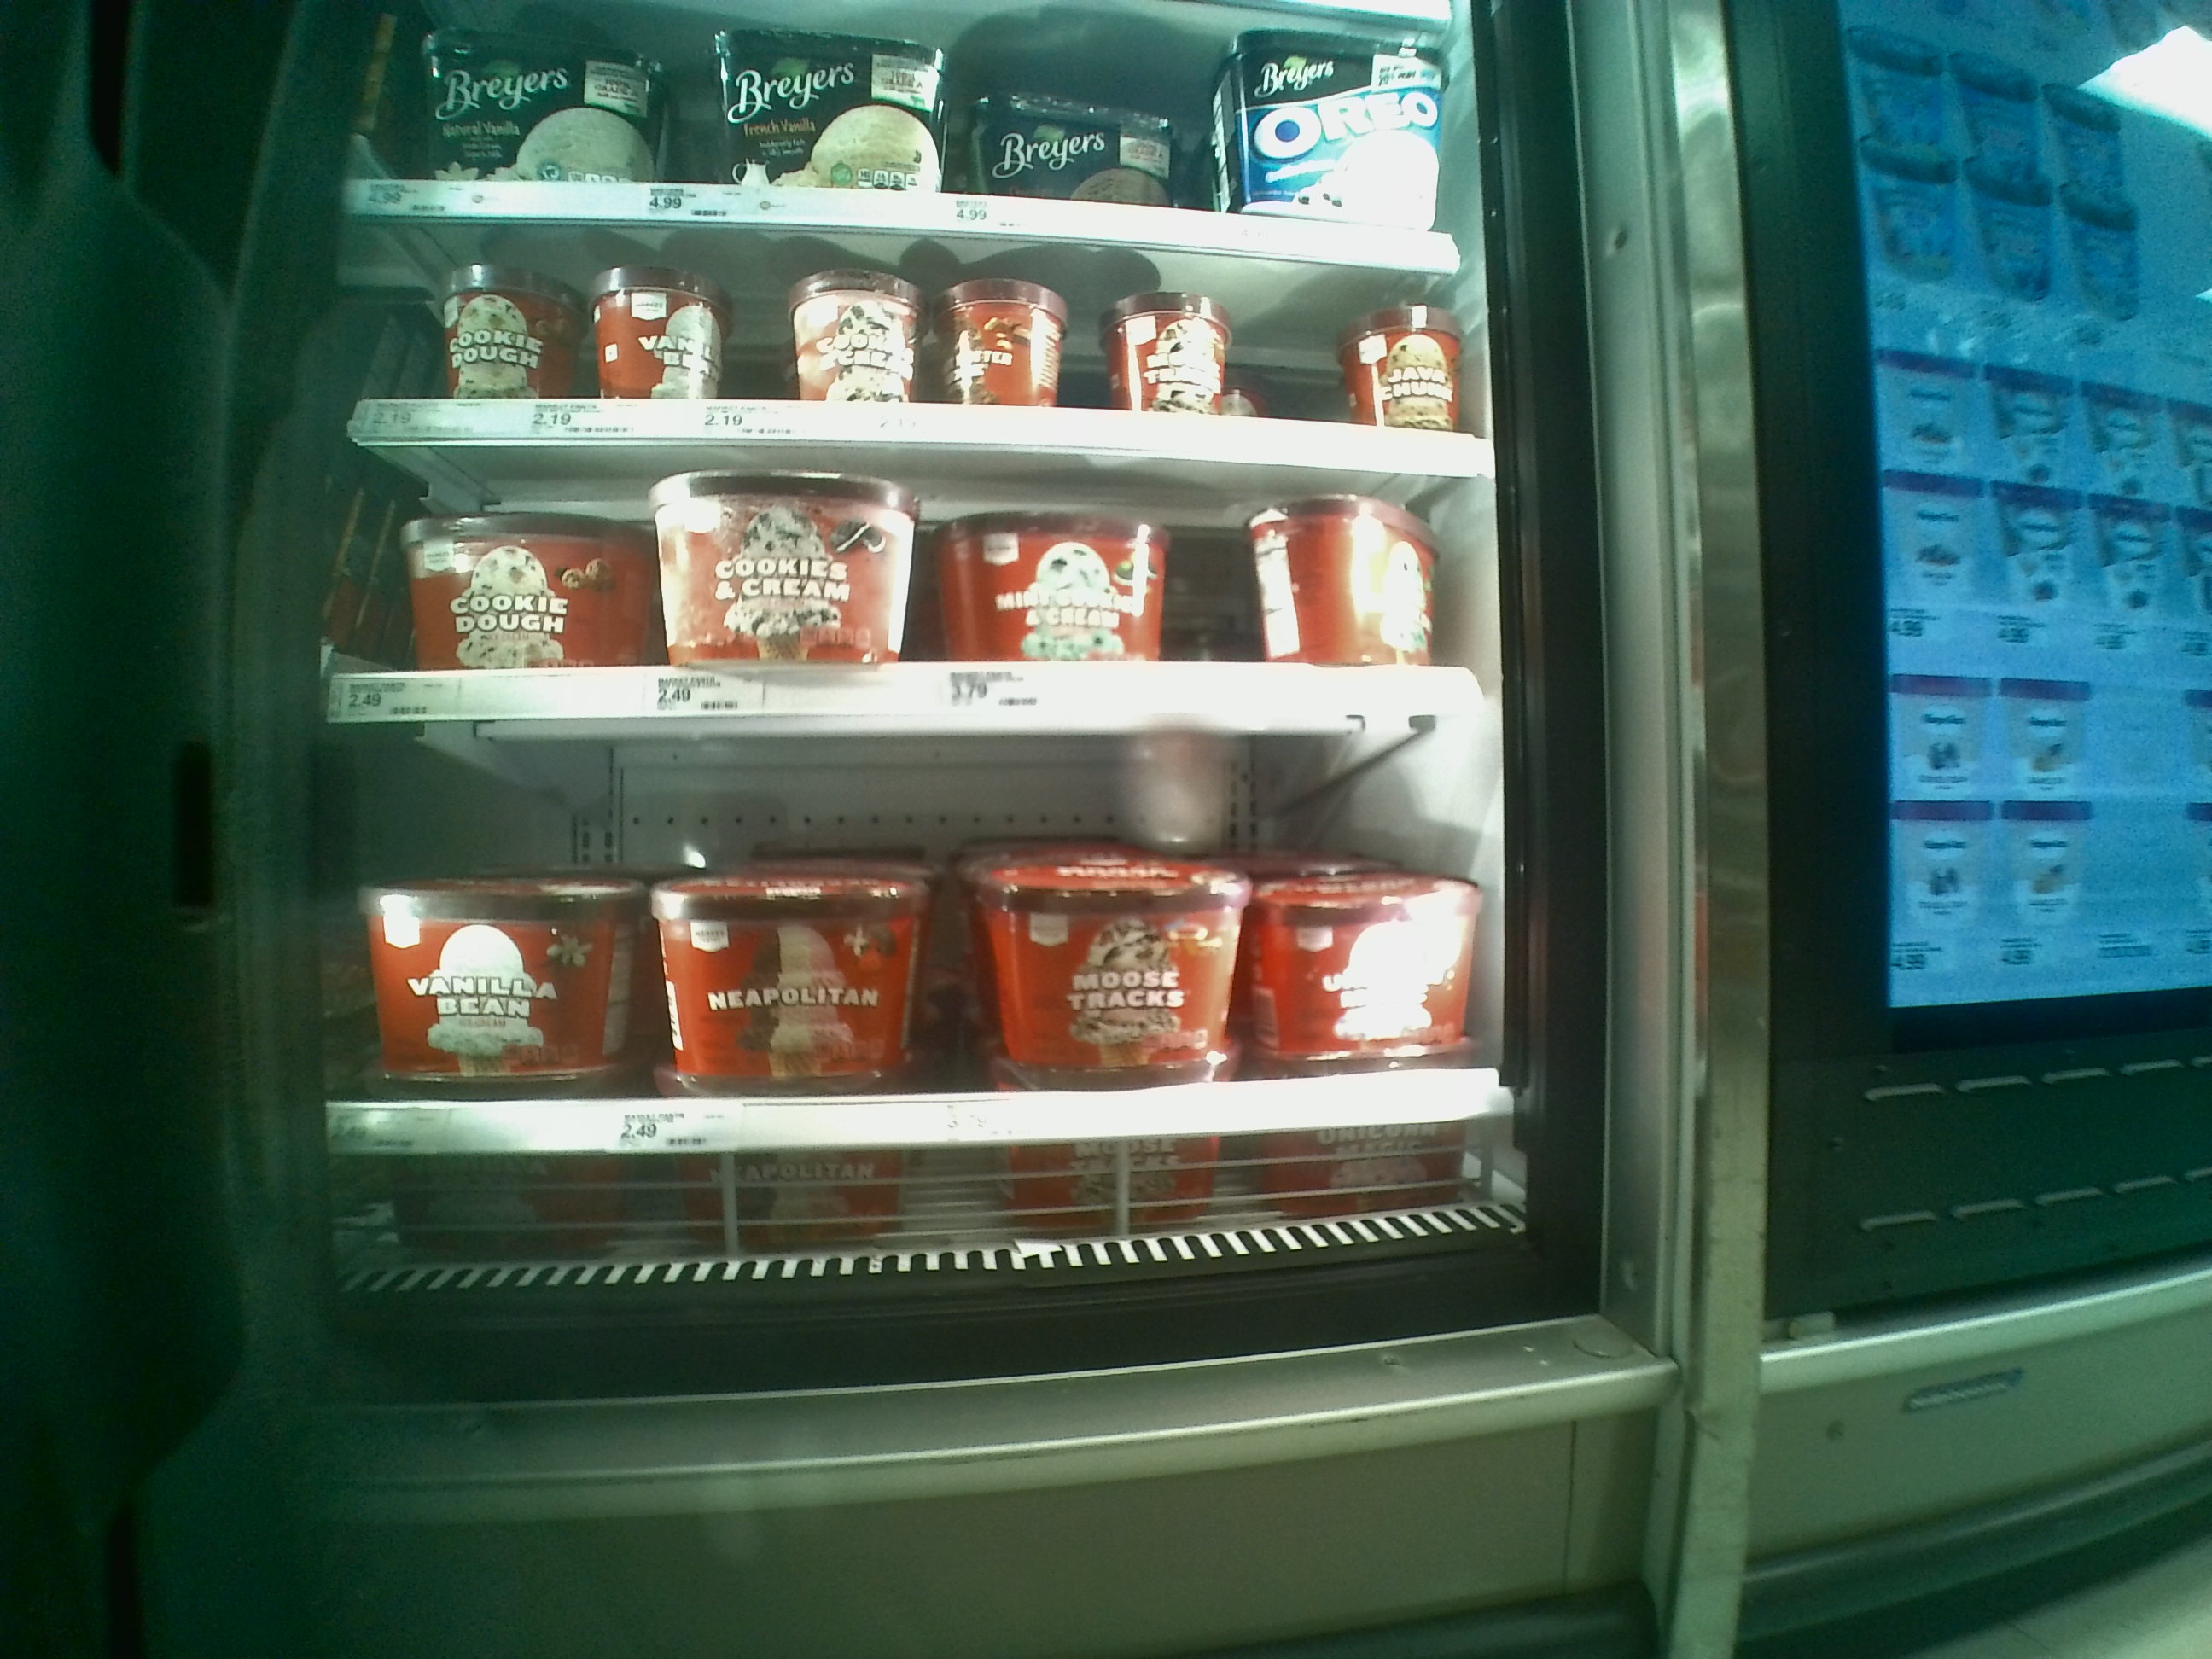shelf: (336, 718, 1515, 1255), (331, 443, 1514, 716), (355, 218, 1475, 441)
